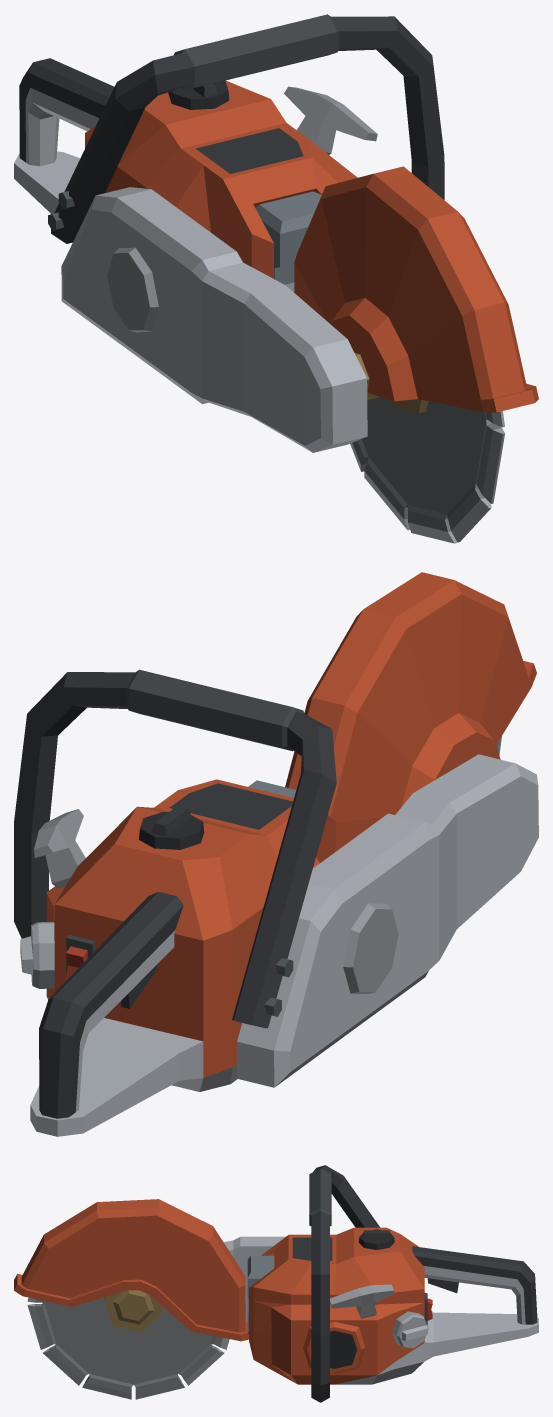
File: SM_Tool_Concrete_Saw_01.fbx
3 views of the same model, one above another, from view 1: azimuth 30°, elevation 25°; view 2: azimuth 150°, elevation 25°; view 3: azimuth 270°, elevation 25° (orthographic). The views are drawn at different scales.
Parts seen in each view (by area): view 1: SM_Tool_Concrete_Saw_01, SM_Tool_Concrete_Saw_01_Blade; view 2: SM_Tool_Concrete_Saw_01; view 3: SM_Tool_Concrete_Saw_01, SM_Tool_Concrete_Saw_01_Blade.
Part boxes in pixels (x1=…): SM_Tool_Concrete_Saw_01: x1=14, y1=14, x2=538, y2=452; SM_Tool_Concrete_Saw_01_Blade: x1=350, y1=397, x2=504, y2=543; SM_Tool_Concrete_Saw_01: x1=14, y1=572, x2=538, y2=1136; SM_Tool_Concrete_Saw_01: x1=14, y1=1165, x2=538, y2=1402; SM_Tool_Concrete_Saw_01_Blade: x1=27, y1=1297, x2=229, y2=1399.
Bounding box in the file's own units: 35.14 × 38.76 × 86.15.
